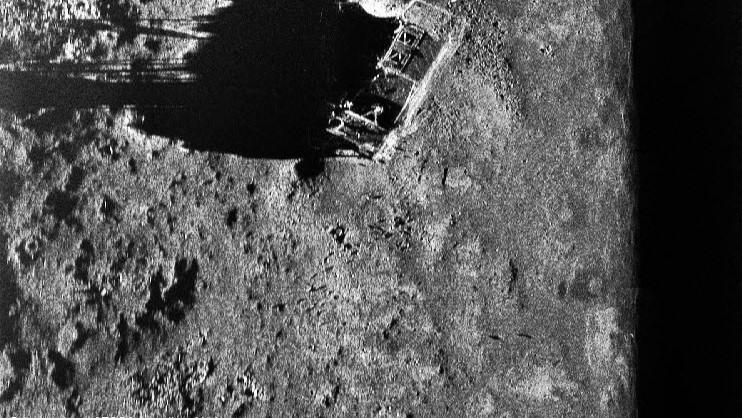ship: (325, 1, 467, 167)
